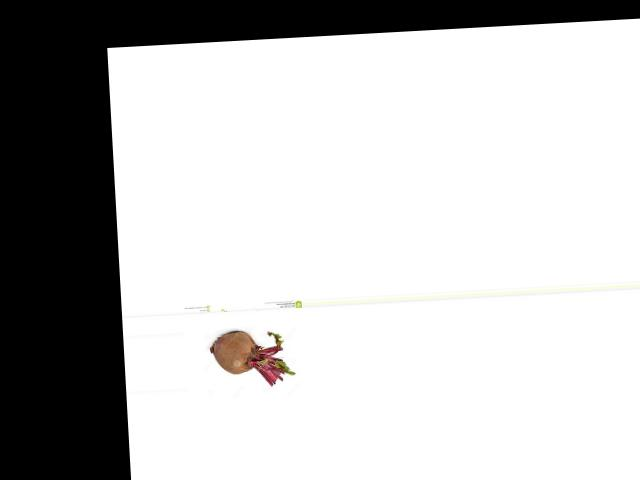beet: (208, 328, 295, 388)
